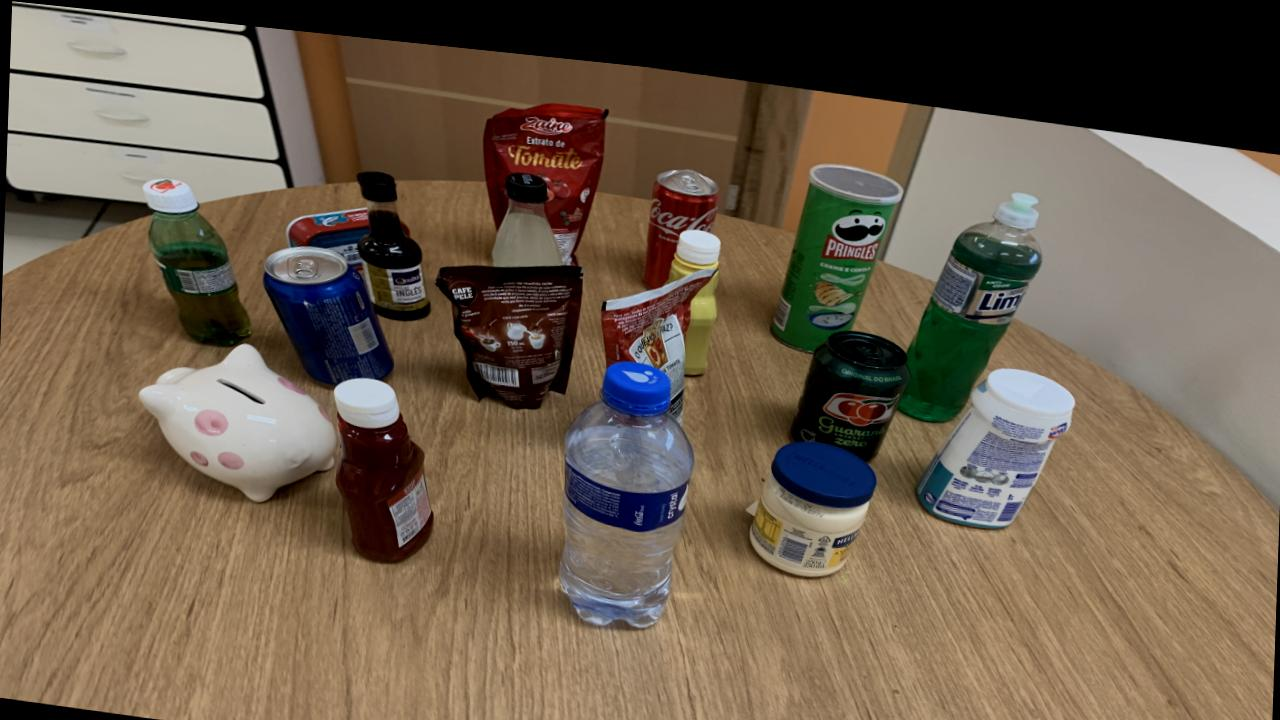Cleaner-Cleanup_Items: (916, 346, 1075, 507)
Coffee-Pantry_Items: (437, 253, 585, 398)
Coke-Drinks: (643, 154, 719, 275)
Detergent-Cleanup_Items: (899, 170, 1043, 402)
English_Sauce-Pantry_Items: (357, 163, 431, 312)
Guarana-Drinks: (144, 175, 252, 341)
Guarana_Can-Drinks: (790, 311, 910, 442)
Ketchup-Pantry_Items: (601, 250, 718, 407), (335, 370, 433, 554)
Mayonnaise-Pantry_Items: (748, 423, 877, 560)
Mustard-Pantry_Items: (685, 260, 718, 361), (668, 214, 722, 268)
Pig_Safe-Miscellaneous: (139, 338, 336, 496)
Pringles-Snacks: (771, 146, 902, 335)
Soda-Drinks: (493, 161, 563, 257)
Tomato_Sauce-Pantry_Items: (483, 91, 608, 252)
Tonic-Drinks: (263, 240, 394, 378)
Tuna_Can-Pantry_Items: (288, 200, 369, 263)
Water_Bottle-Drinks: (559, 347, 694, 613)
